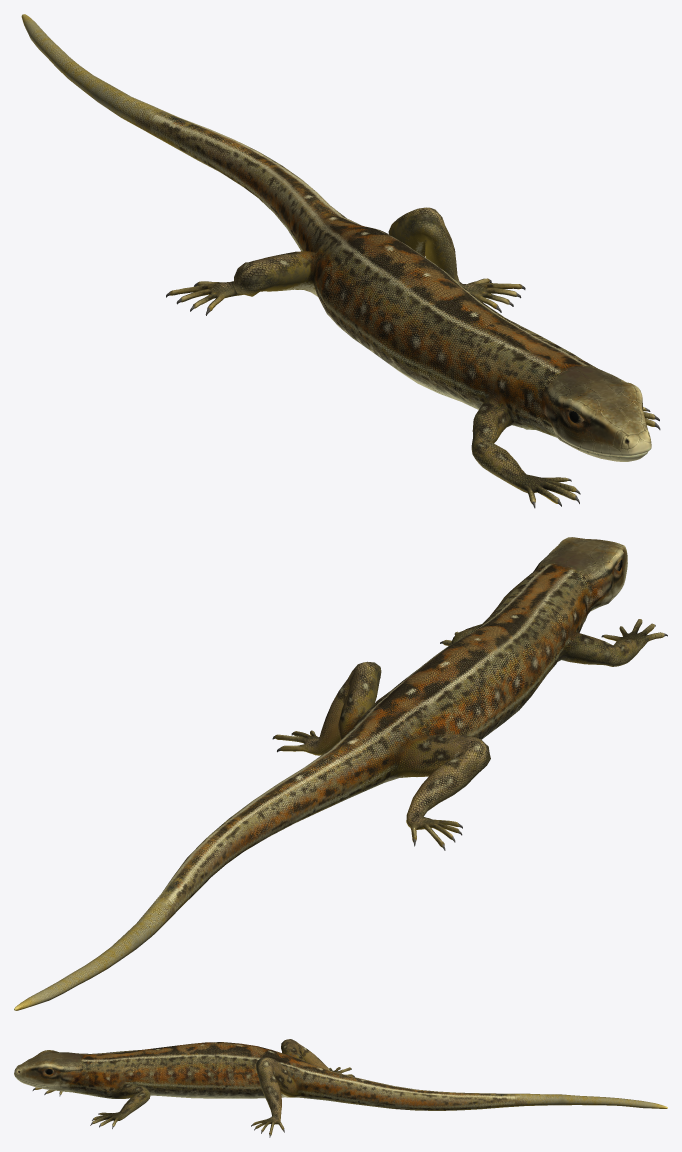
The model's file is Running75.obj.
3 views of the same model, one above another, from view 1: azimuth 30°, elevation 25°; view 2: azimuth 150°, elevation 25°; view 3: azimuth 270°, elevation 25° (orthographic). The views are drawn at different scales.
Visible parts, largest first — view 1: Lizard; view 2: Lizard; view 3: Lizard.
Boxes of the visible parts, bbox=[...] form: Lizard: bbox=[21, 14, 660, 508]; Lizard: bbox=[14, 537, 667, 1010]; Lizard: bbox=[14, 1039, 667, 1137].
Size of the model in its own units: 25.67 by 9.64 by 104.
